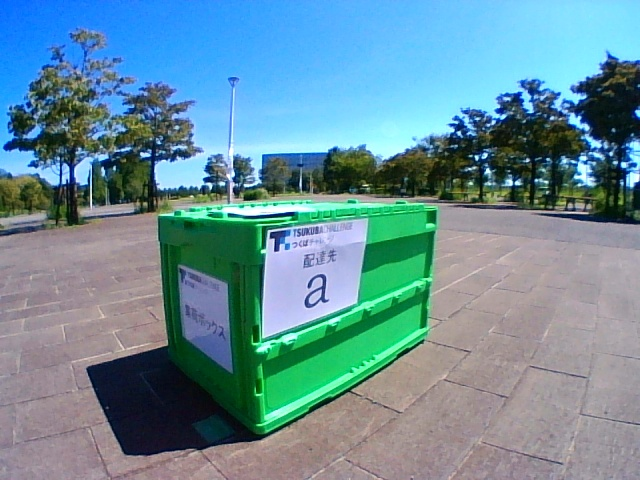green_box: (158, 200, 437, 434)
tag_a: (276, 237, 339, 311)
